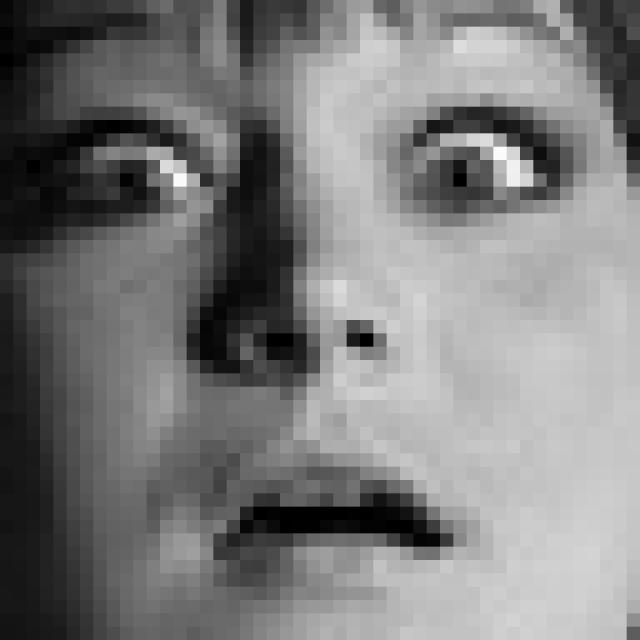fear: (17, 0, 596, 608)
